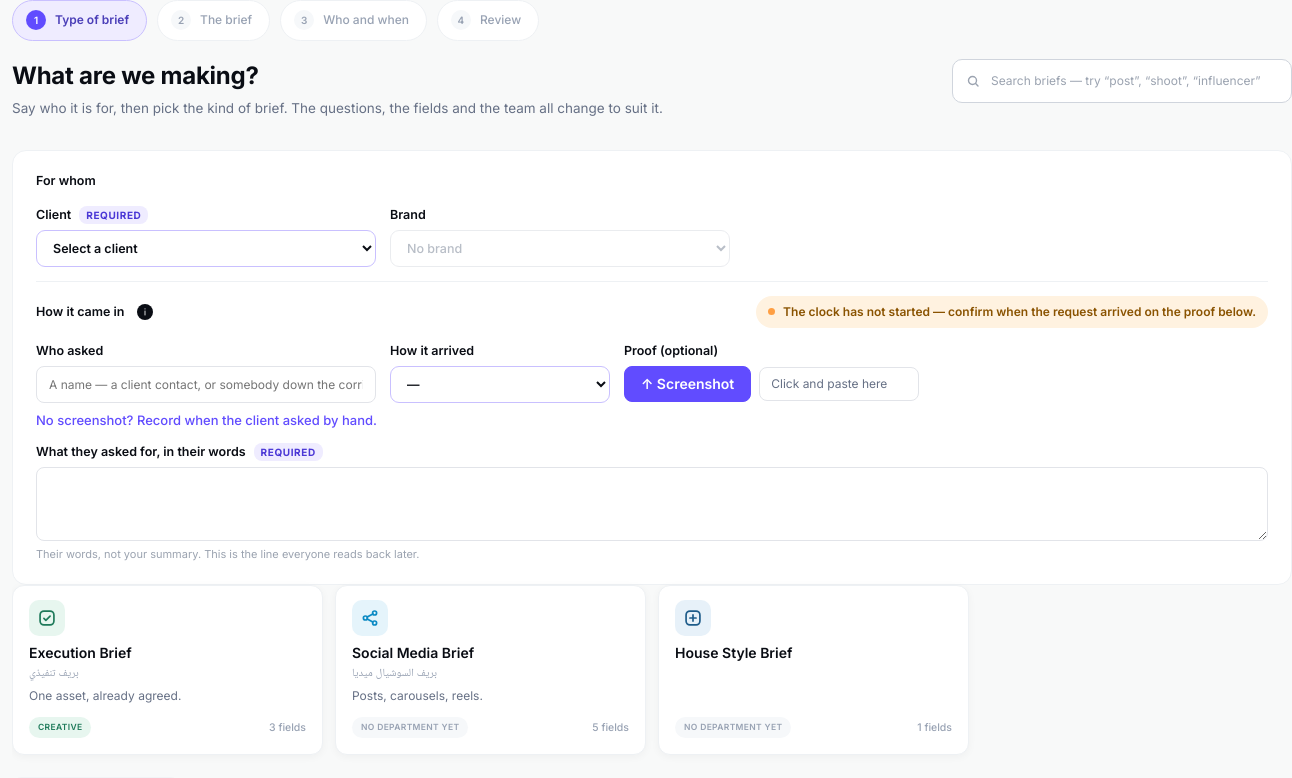
Test: SingleJobWizard — SJ-v3-01 what are we making? (Figma B · SINGLE JOB — BRIEF FIRST, 22 Sep) › the search narrows the cards and an empty match is a line, not a dead end
The width and height of the screenshot is (1292, 778).
Type "social" into the search field with test id "sj-brief-search" at x=1133, y=81, box left=989, top=71, right=1277, bottom=90
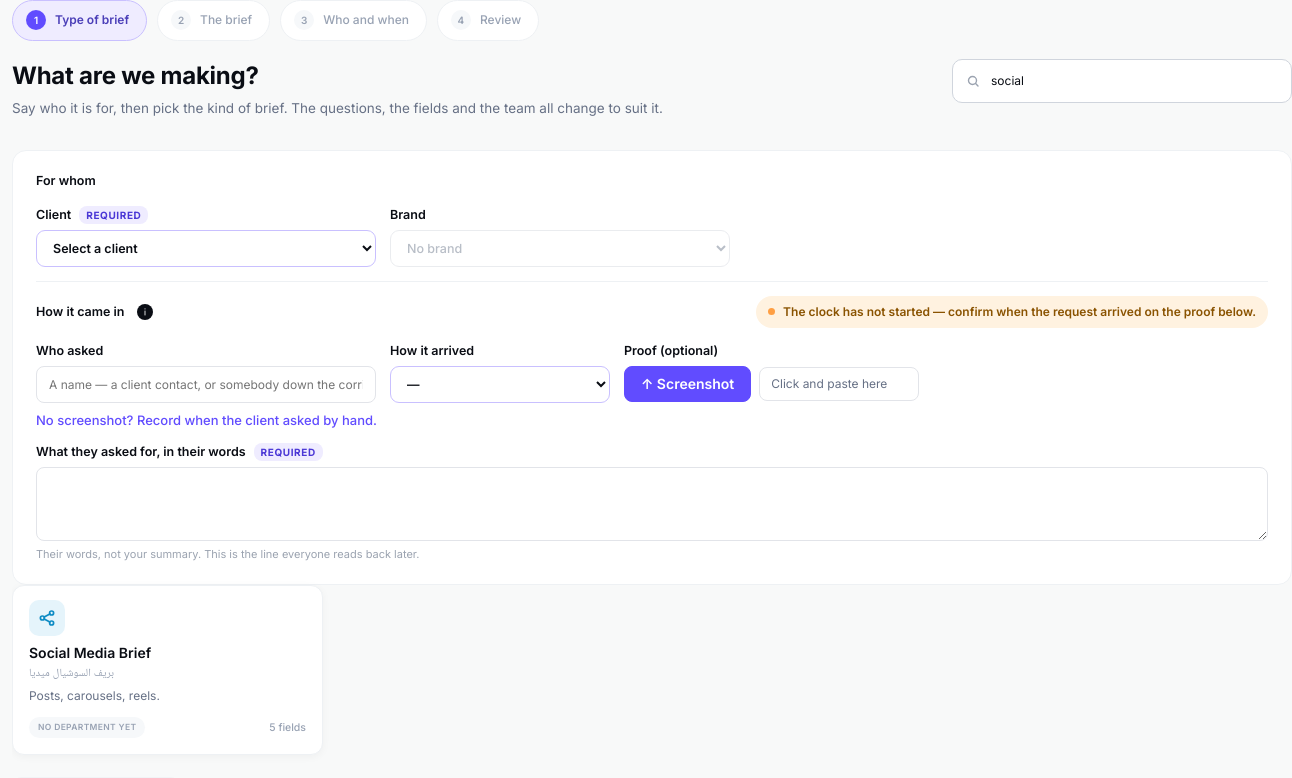
Expected: the button with test id "sj-brief-card-social_calendar" is shown, left=12, top=585, right=323, bottom=755
Result: the button with test id "sj-brief-card-single_execution" is gone
Replace the text in the search field with test id "sj-brief-search" with "zzz" at x=1133, y=81, box left=989, top=71, right=1277, bottom=90
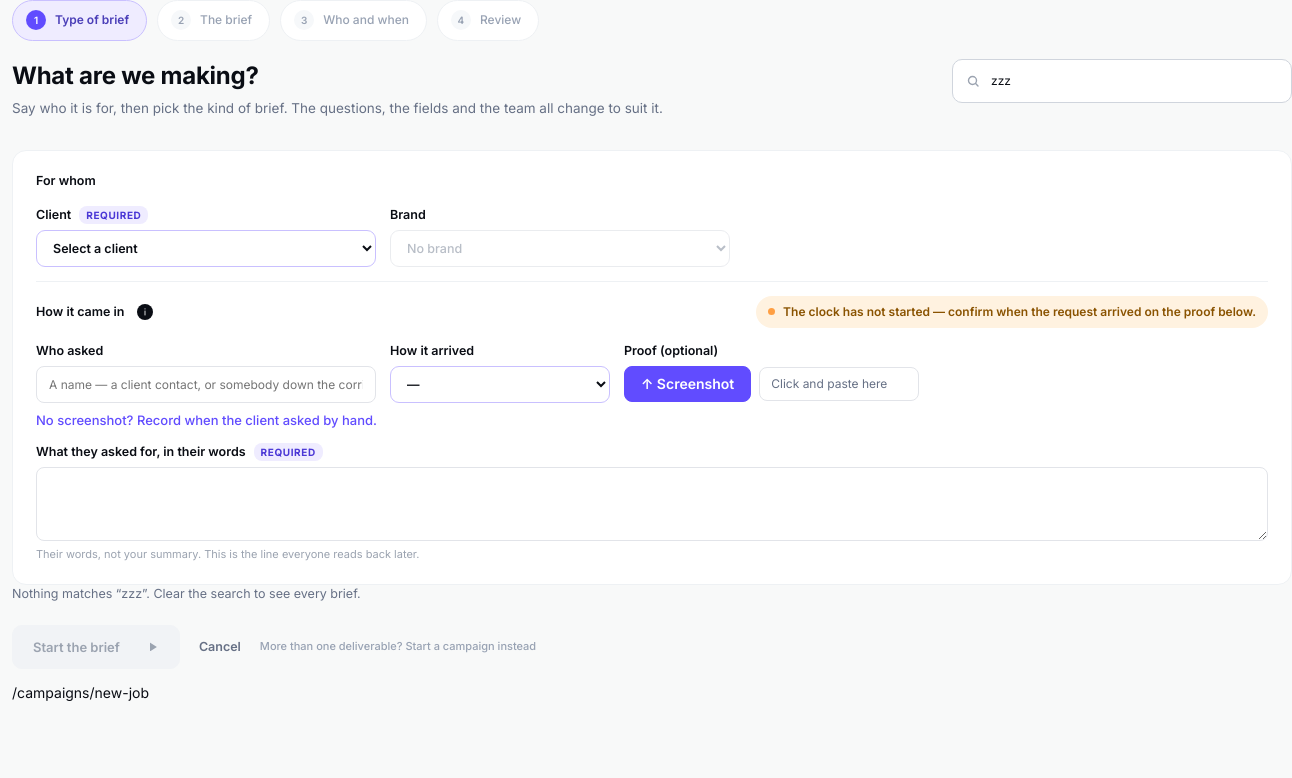
Result: the text with test id "sj-brief-empty" shows "Nothing matches" at left=12, top=586, right=361, bottom=601
Clear the search field with test id "sj-brief-search" at x=1133, y=81, box left=989, top=71, right=1277, bottom=90
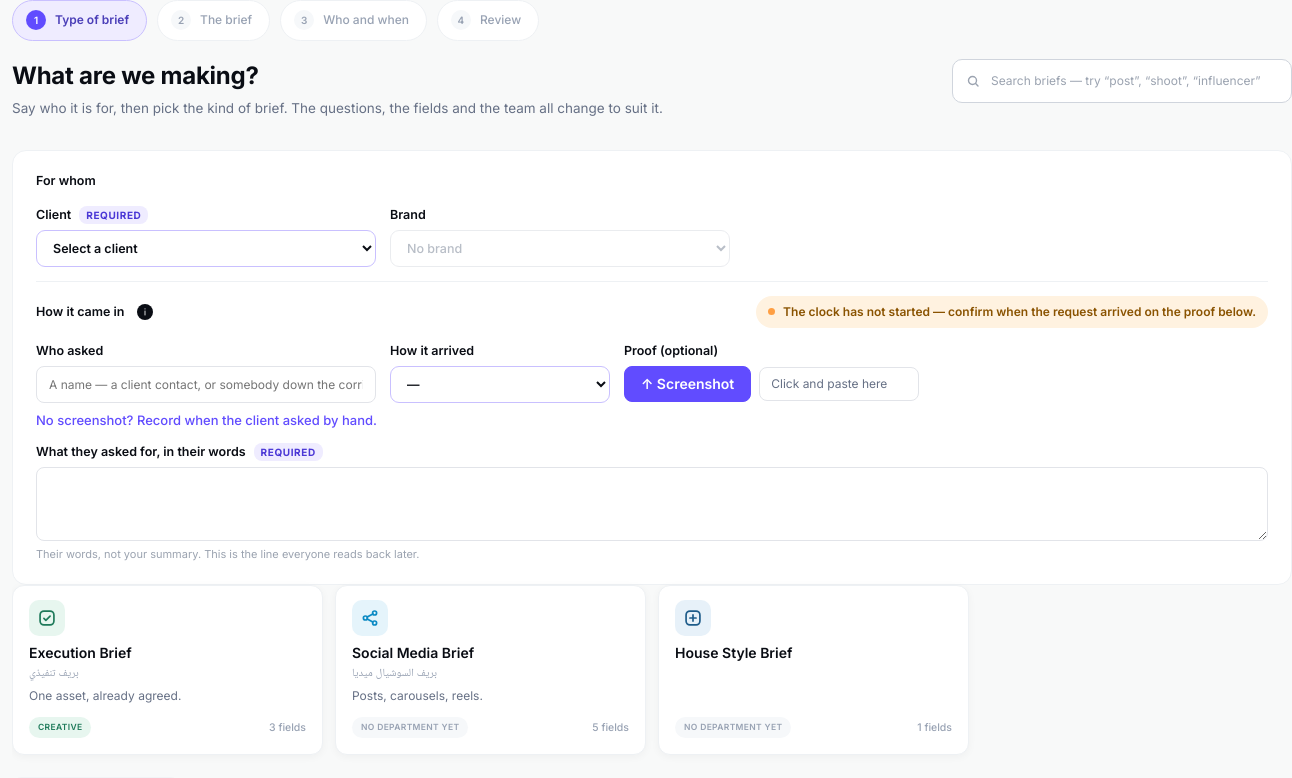
Result: the button with test id "sj-brief-card-house_style" is shown at left=658, top=585, right=969, bottom=755
